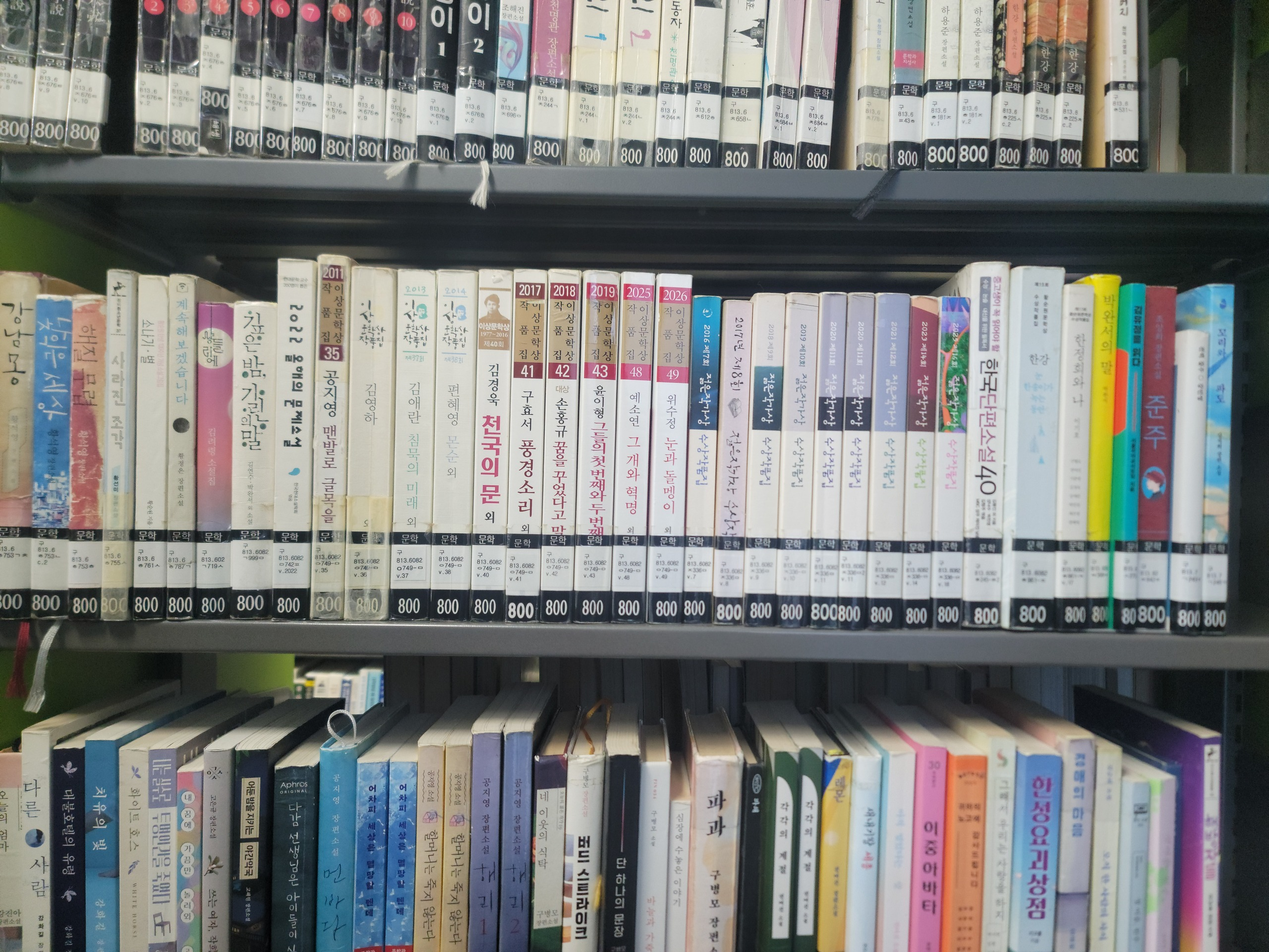book-spine: (1007, 266, 1063, 632), (343, 267, 395, 620), (962, 261, 1011, 630), (428, 272, 477, 621), (572, 272, 620, 623), (388, 271, 436, 620), (645, 274, 692, 623), (609, 273, 655, 623), (468, 270, 513, 622), (271, 260, 314, 621), (503, 271, 547, 623), (538, 271, 582, 623), (741, 294, 786, 628), (774, 294, 819, 628), (865, 295, 910, 629), (309, 255, 350, 620), (1051, 286, 1094, 630), (230, 301, 275, 621), (1135, 286, 1176, 635), (710, 301, 754, 625), (29, 298, 72, 619), (680, 297, 722, 624), (930, 297, 971, 630), (807, 293, 847, 631), (899, 297, 939, 629), (836, 294, 875, 632), (1084, 275, 1120, 630), (1199, 284, 1235, 633), (1168, 330, 1209, 636), (0, 273, 36, 619), (131, 276, 167, 621), (99, 271, 134, 623), (67, 298, 105, 620), (196, 303, 233, 619), (165, 276, 196, 621), (1116, 281, 1146, 636)
